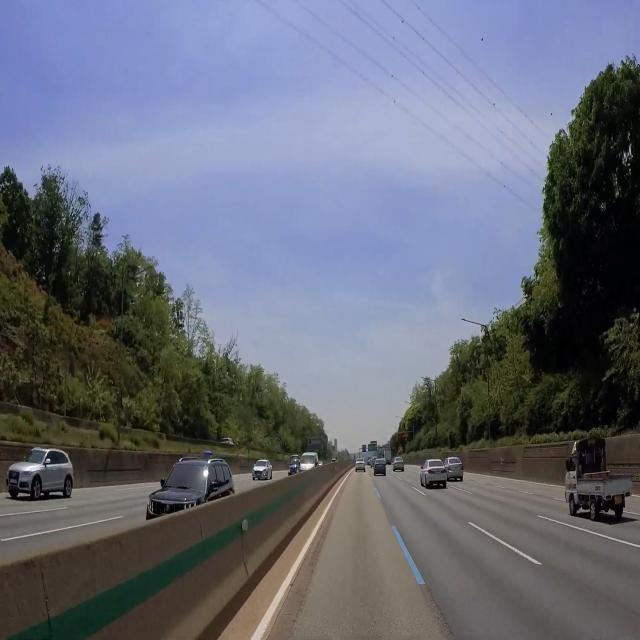car: (611, 494, 627, 507), (375, 461, 384, 475), (433, 469, 444, 479), (451, 466, 462, 475), (9, 477, 17, 488), (256, 470, 260, 480), (359, 464, 363, 472), (291, 470, 296, 476), (397, 465, 402, 469)
